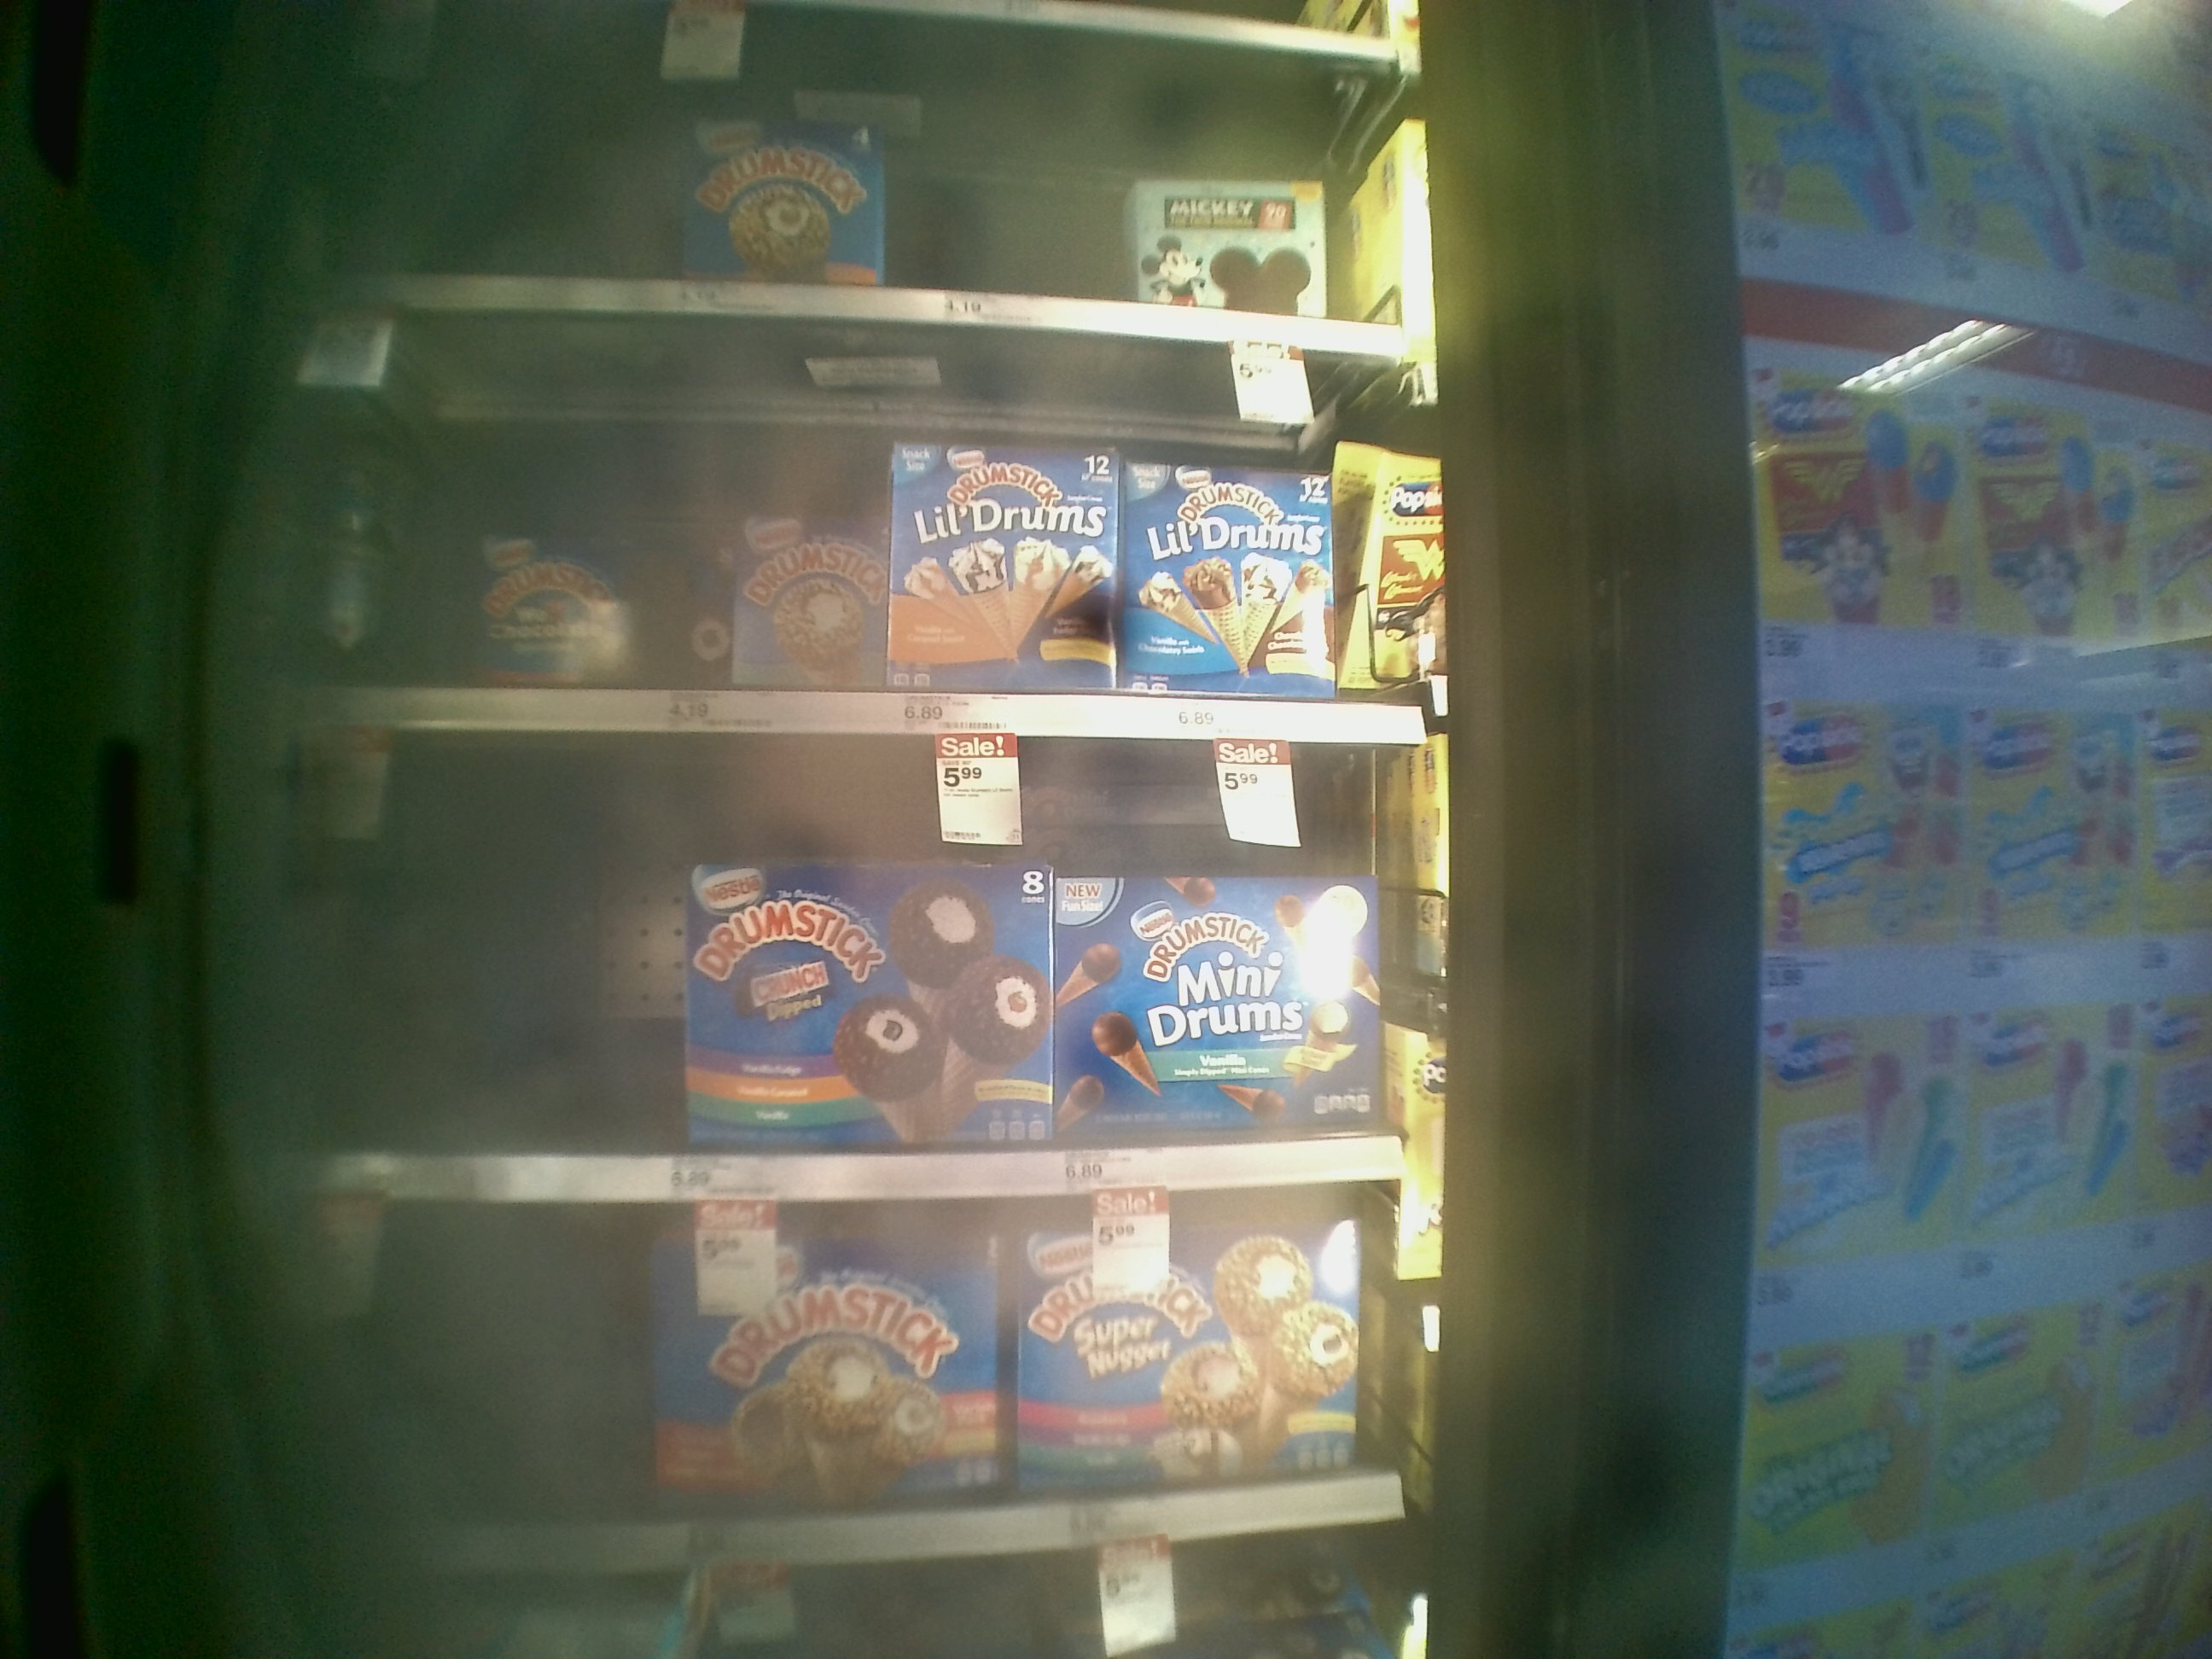shelf: (294, 732, 1433, 1194), (303, 310, 1440, 742), (289, 1201, 1444, 1577)
